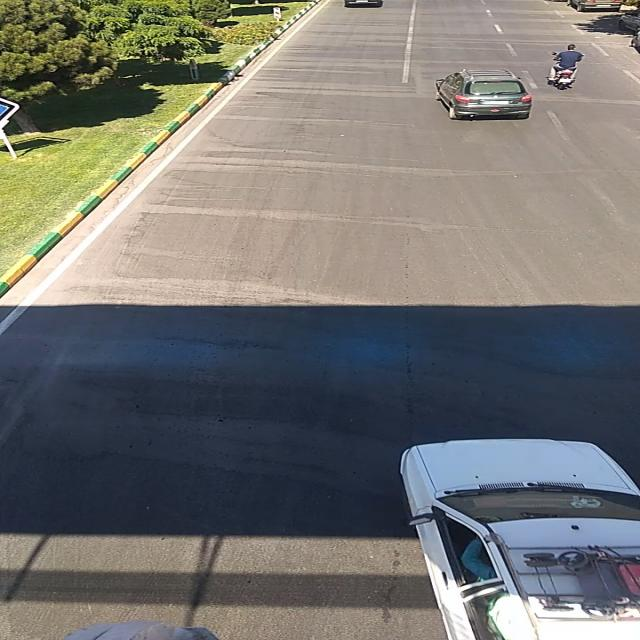car: (387, 441, 640, 634), (432, 68, 532, 120), (567, 1, 627, 11), (338, 0, 383, 8)
motor: (548, 45, 583, 91)
